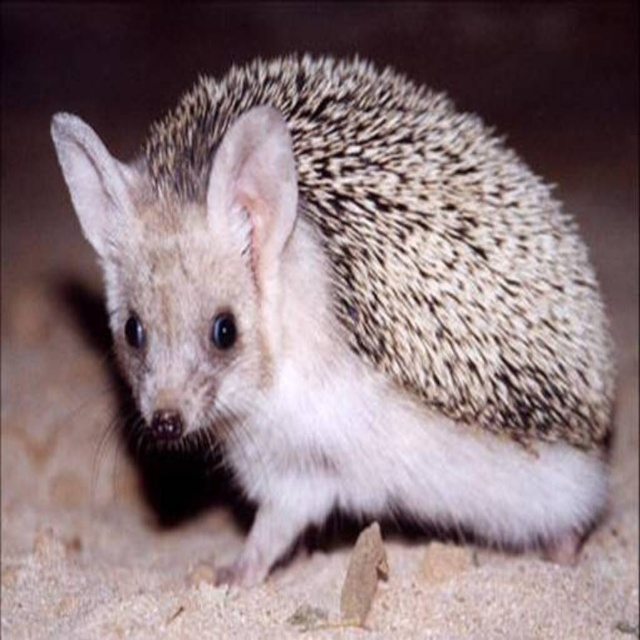Hedgehog: (49, 49, 624, 588)
